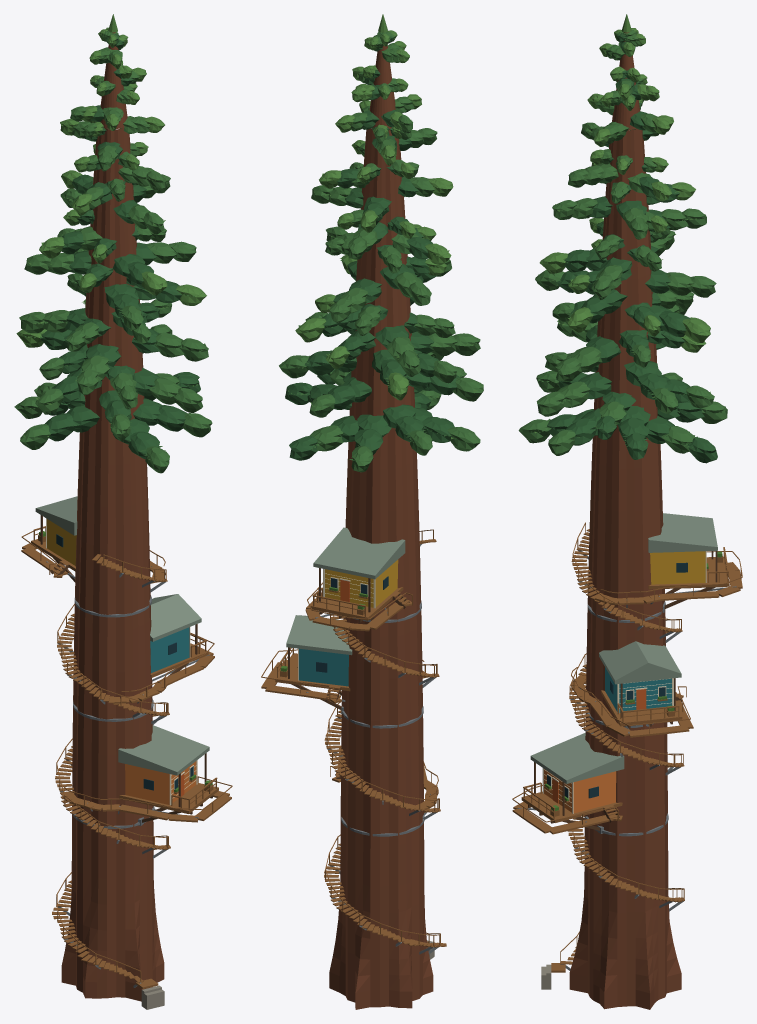
The model's file is village_tree_mid.glb.
The picture shows the model from 3 angles, left to right: view 1: azimuth 30°, elevation 25°; view 2: azimuth 150°, elevation 25°; view 3: azimuth 270°, elevation 25°; orthographic projection.
Parts seen in each view (by area): view 1: village_tree_mid; view 2: village_tree_mid; view 3: village_tree_mid.
Boxes of the visible parts, bbox=[...] form: village_tree_mid: bbox=[14, 14, 232, 1009]; village_tree_mid: bbox=[261, 14, 483, 1009]; village_tree_mid: bbox=[512, 14, 742, 1009].
Bounding box in the file's own units: 20.11 × 94.2 × 20.18.
